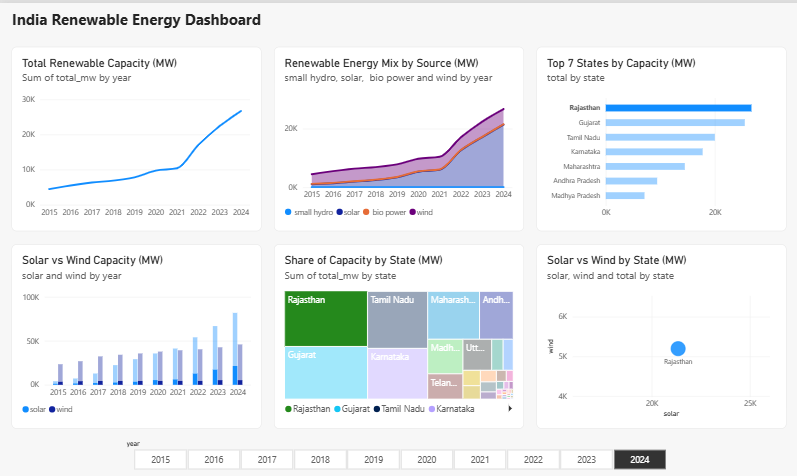

What the dashboard file says about the page in this screenshot:
{"tool":"powerbi","page":{"name":"Page 1","canvas":[1920,1080],"ordinal":0},"visuals":[{"type":"lineChart","title":"Total Renewable Capacity (MW)","fields":{"Category":["capacity_final.year"],"Y":["Sum(capacity_final.total_mw)"]},"box":[20,70,400,295],"z":0},{"type":"stackedAreaChart","title":"Renewable Energy Mix by Source (MW)","fields":{"Category":["capacity_final.year"],"Y":["Sum(capacity_final.small_hydro_mw)","Sum(capacity_final.solar_mw)","Sum(capacity_final.bio_power_mw)","Sum(capacity_final.wind_mw)"]},"box":[440,70,400,295],"z":1000},{"type":"slicer","fields":{"Values":["capacity_final.year"]},"box":[195.7,697.1,890,50],"z":2000},{"type":"clusteredBarChart","title":" Top 7 States by Capacity (MW)","fields":{"Category":["capacity_final.state"],"Y":["Sum(capacity_final.total_mw)"]},"box":[860,70,400,295],"z":3000},{"type":"clusteredColumnChart","title":"Solar vs Wind Capacity (MW)","fields":{"Category":["capacity_final.year"],"Y":["Sum(capacity_final.solar_mw)","Sum(capacity_final.wind_mw)"]},"box":[20,385,400,295],"z":4000},{"type":"treemap","title":"Share of Capacity by State (MW)","fields":{"Group":["capacity_final.state"],"Values":["Sum(capacity_final.total_mw)"]},"box":[440,385,400,295],"z":5000},{"type":"scatterChart","title":"Solar vs Wind by State (MW)","fields":{"Category":["capacity_final.state"],"Size":["Sum(capacity_final.total_mw)"],"X":["Sum(capacity_final.solar_mw)"],"Y":["Sum(capacity_final.wind_mw)"]},"box":[860,385,400,295],"z":6000},{"type":"textbox","box":[1270,70,400,295],"z":7000},{"type":"textbox","box":[20,10,400,60],"z":8000}]}

Visuals, with their boxes on the page's 1920x1080 design canvas (x1, y1, x2, y2). These are canvas units, not pixel positions in the 797x476 screenshot, which may show the page scaled, cropped or inside an application window:
"Total Renewable Capacity (MW)" lineChart: [left=20, top=70, right=420, bottom=365]
"Renewable Energy Mix by Source (MW)" stackedAreaChart: [left=440, top=70, right=840, bottom=365]
slicer - capacity_final.year: [left=196, top=697, right=1086, bottom=747]
" Top 7 States by Capacity (MW)" clusteredBarChart: [left=860, top=70, right=1260, bottom=365]
"Solar vs Wind Capacity (MW)" clusteredColumnChart: [left=20, top=385, right=420, bottom=680]
"Share of Capacity by State (MW)" treemap: [left=440, top=385, right=840, bottom=680]
"Solar vs Wind by State (MW)" scatterChart: [left=860, top=385, right=1260, bottom=680]
textbox: [left=1270, top=70, right=1670, bottom=365]
textbox: [left=20, top=10, right=420, bottom=70]
